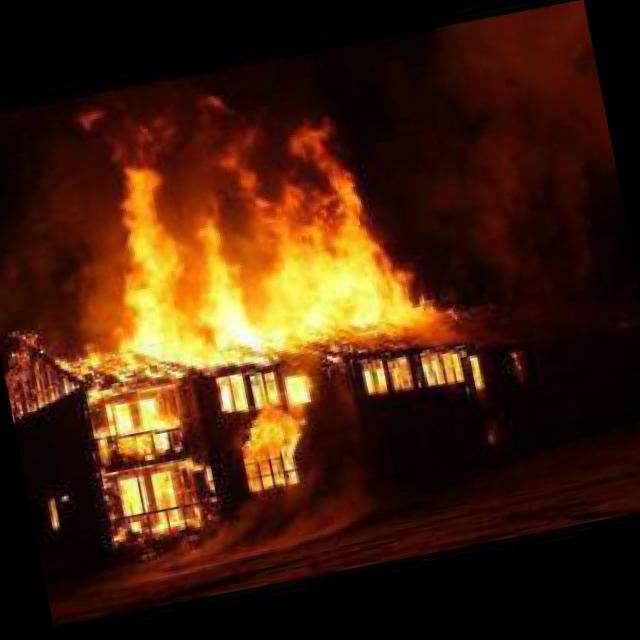fire: (44, 96, 434, 391), (90, 362, 330, 538), (362, 335, 486, 407)
